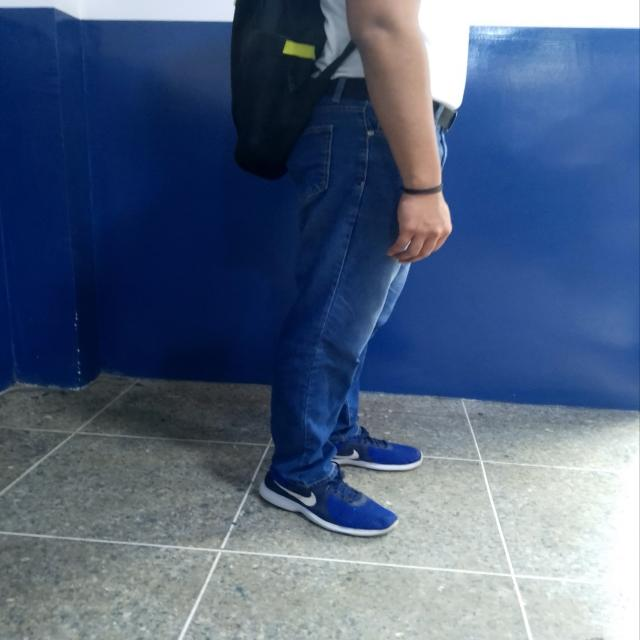pantalon_oscuro: (268, 97, 450, 491)
